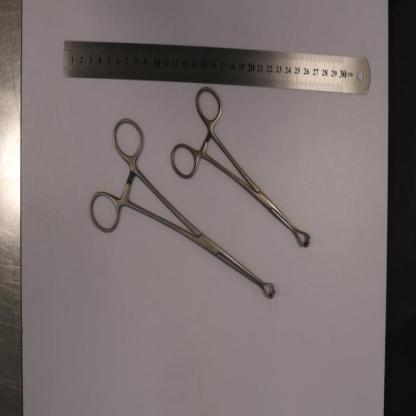8 Babcock Tissue Forceps: (90, 117, 275, 297)
Babcock Tissue Forceps: (172, 87, 310, 246)
